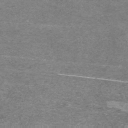finishing roll printing: (58, 73, 128, 83)
